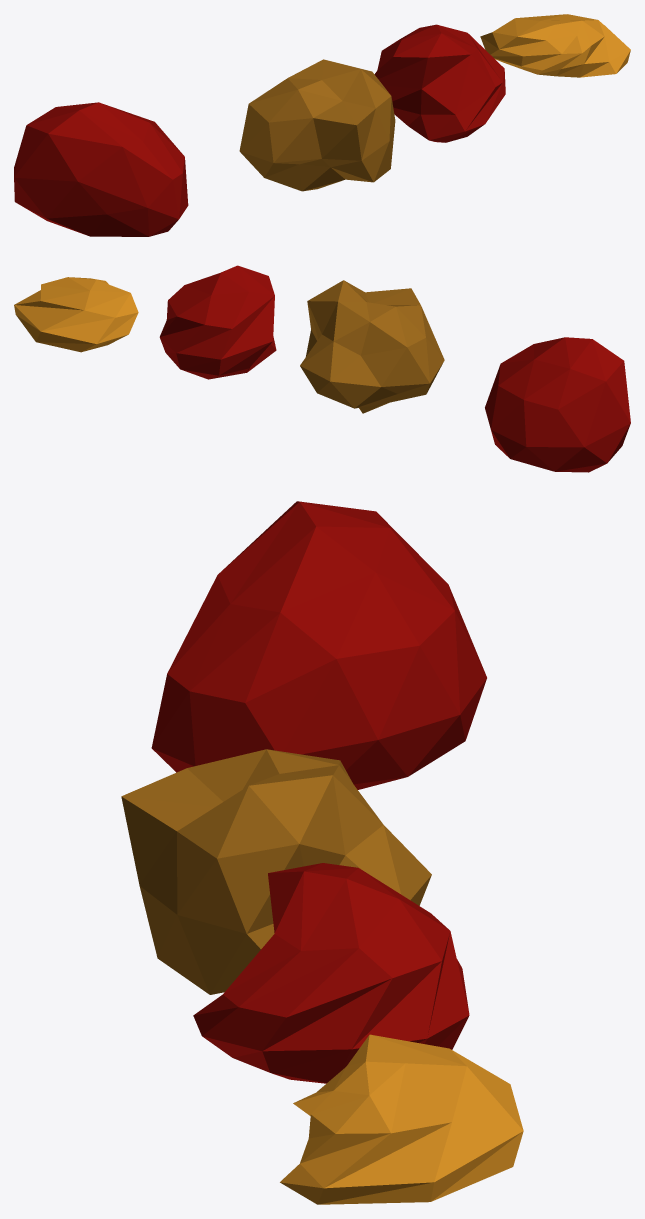
Rendered from bush_3.fbx.
The picture shows the model from 3 angles, top to bottom: view 1: azimuth 30°, elevation 25°; view 2: azimuth 150°, elevation 25°; view 3: azimuth 270°, elevation 25°; orthographic projection. The views are drawn at different scales.
Visible parts, largest first — view 1: pasted__Icosphere.001, pasted__Icosphere.006, pasted__Icosphere.010, pasted__Icosphere.011; view 2: pasted__Icosphere.001, pasted__Icosphere.006, pasted__Icosphere.010, pasted__Icosphere.011; view 3: pasted__Icosphere.001, pasted__Icosphere.006, pasted__Icosphere.010, pasted__Icosphere.011.
Boxes of the visible parts, x1,y1,x2,y2 form: pasted__Icosphere.001: (14,102,188,236); pasted__Icosphere.006: (239,59,395,191); pasted__Icosphere.010: (374,24,505,142); pasted__Icosphere.011: (480,14,630,77); pasted__Icosphere.001: (485,337,630,472); pasted__Icosphere.006: (300,280,444,413); pasted__Icosphere.010: (159,265,276,379); pasted__Icosphere.011: (14,277,138,352); pasted__Icosphere.001: (151,501,486,789); pasted__Icosphere.006: (121,749,431,994); pasted__Icosphere.010: (193,863,469,1083); pasted__Icosphere.011: (280,1034,523,1204).
Bounding box in the file's own units: 215 × 45.54 × 62.83.
